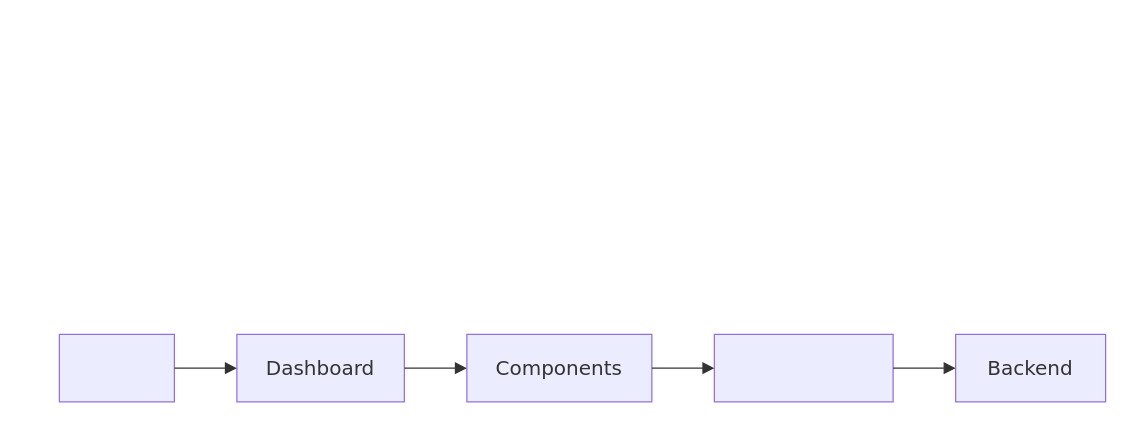
Image size: 1128x424. Some labels were removed from this diagram. Here are the shapes that lost their labels. From the top down, the centre of each, then its label:
(x=116, y=367): User
(x=803, y=367): API_Service
